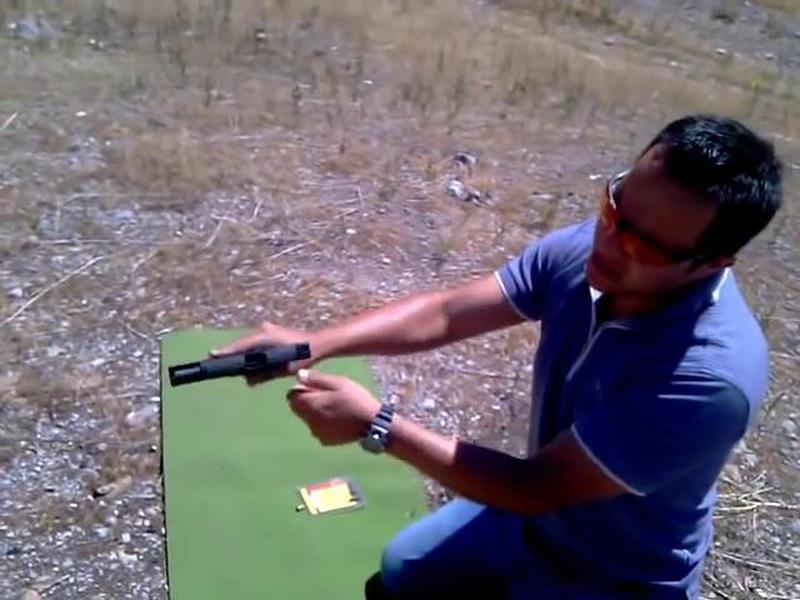Pistola: (148, 329, 332, 393)
